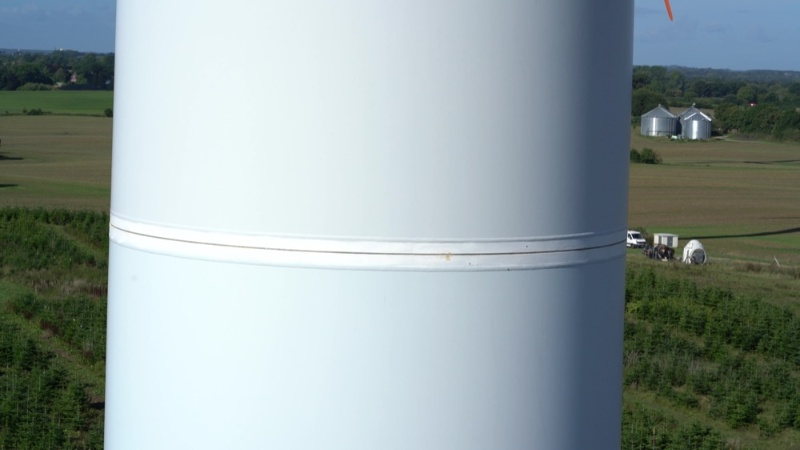weldseam: (110, 203, 629, 246), (108, 235, 628, 276)
